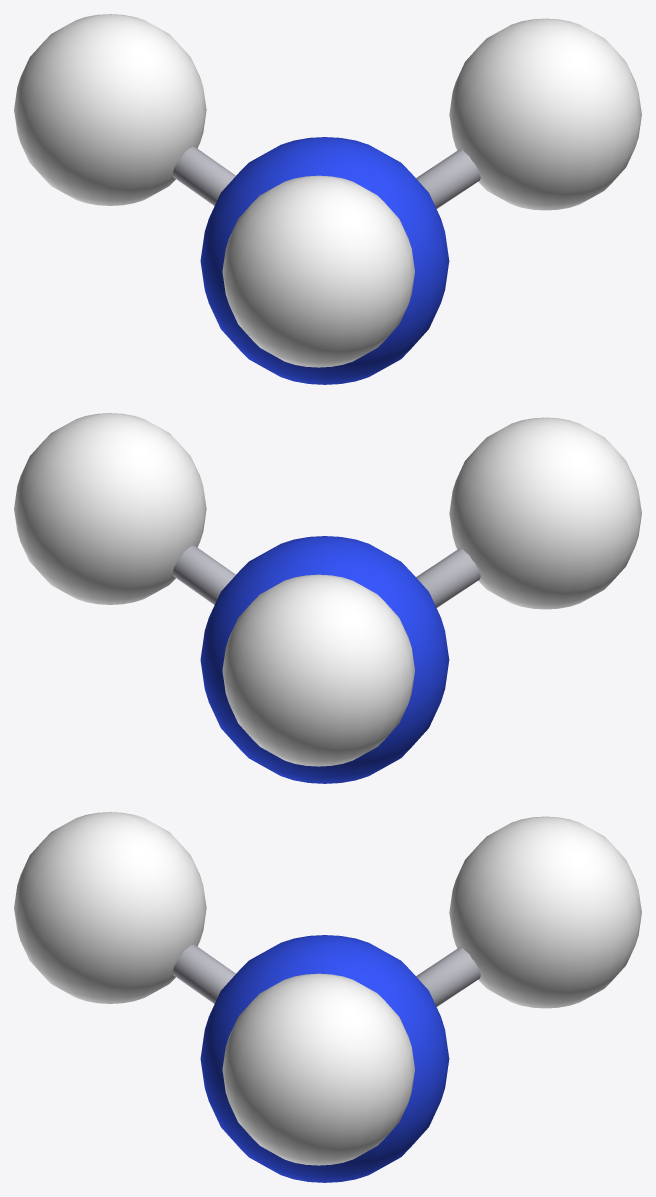
Rendered from ammonia.glb.
The picture shows the model from 3 angles, top to bottom: view 1: azimuth 30°, elevation 25°; view 2: azimuth 150°, elevation 25°; view 3: azimuth 270°, elevation 25°; orthographic projection.
Visible parts, largest first — view 1: H2, H3, H1, N0, bond2-0, bond0-0; view 2: H1, H2, H3, N0, bond1-0, bond2-0; view 3: H3, H1, H2, N0, bond0-0, bond1-0.
Boxes of the visible parts, x1=… form: H2: x1=222, y1=175, x2=414, y2=367; H3: x1=449, y1=18, x2=641, y2=210; H1: x1=14, y1=14, x2=206, y2=205; N0: x1=200, y1=137, x2=449, y2=384; bond2-0: x1=416, y1=149, x2=480, y2=208; bond0-0: x1=172, y1=146, x2=235, y2=205; H1: x1=222, y1=574, x2=414, y2=766; H2: x1=449, y1=417, x2=641, y2=609; H3: x1=14, y1=413, x2=206, y2=604; N0: x1=200, y1=536, x2=449, y2=783; bond1-0: x1=416, y1=548, x2=480, y2=607; bond2-0: x1=172, y1=545, x2=235, y2=604; H3: x1=222, y1=973, x2=414, y2=1165; H1: x1=449, y1=816, x2=641, y2=1008; H2: x1=14, y1=812, x2=206, y2=1003; N0: x1=200, y1=935, x2=449, y2=1182; bond0-0: x1=416, y1=947, x2=480, y2=1006; bond1-0: x1=172, y1=944, x2=235, y2=1003.
Size of the model in its own units: 2.15 by 1.22 by 2.35.
